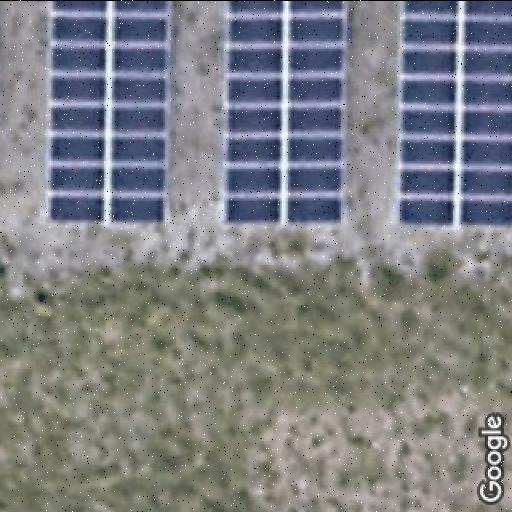solar-panel: (218, 0, 356, 227), (43, 0, 176, 227), (390, 0, 512, 229)
